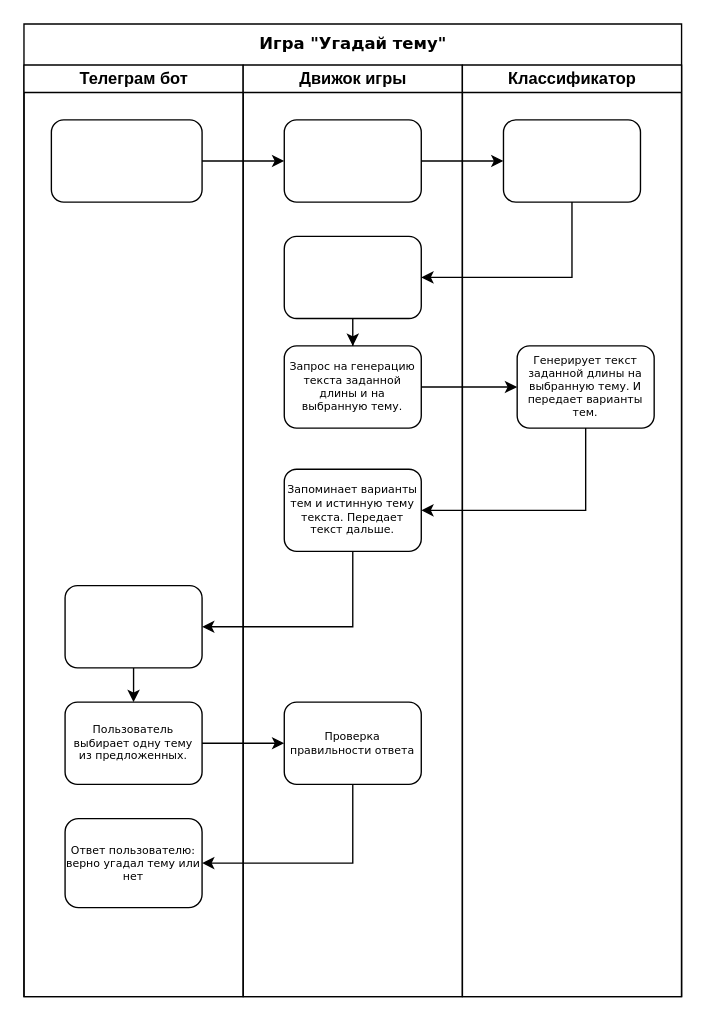
Some shapes in this 706 by 1021 pixel diagram are drawn without their labels. Each missing label, with the box of its shape:
Запрос списка доступных тем.: (283, 119, 421, 202)
Передает список доступных тем.: (502, 119, 640, 202)
Показывает пользователю сгенерированный текст и варианты тем.: (64, 584, 202, 668)
Пользователь начинает игру и выбирает длину генерируемого текста: (50, 119, 202, 202)
Случайно выбирает тему.: (283, 235, 421, 319)
